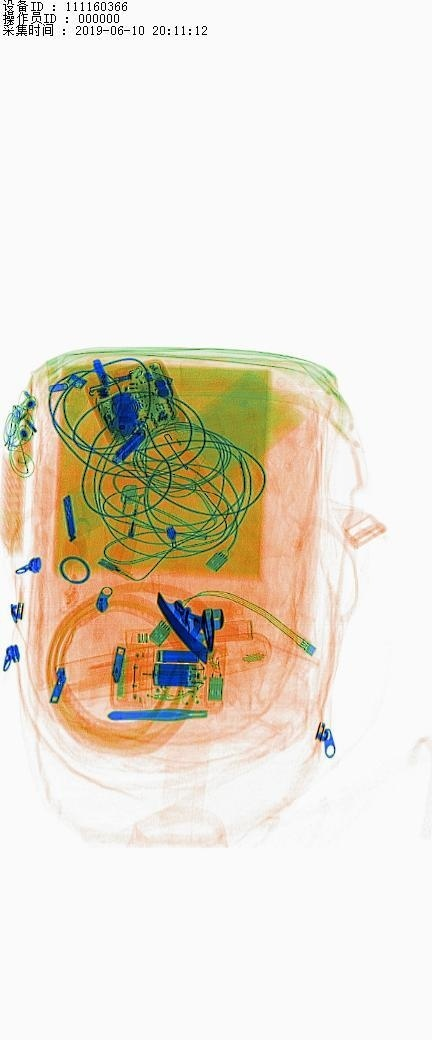NonmetallicFire: (93, 456, 173, 585)
